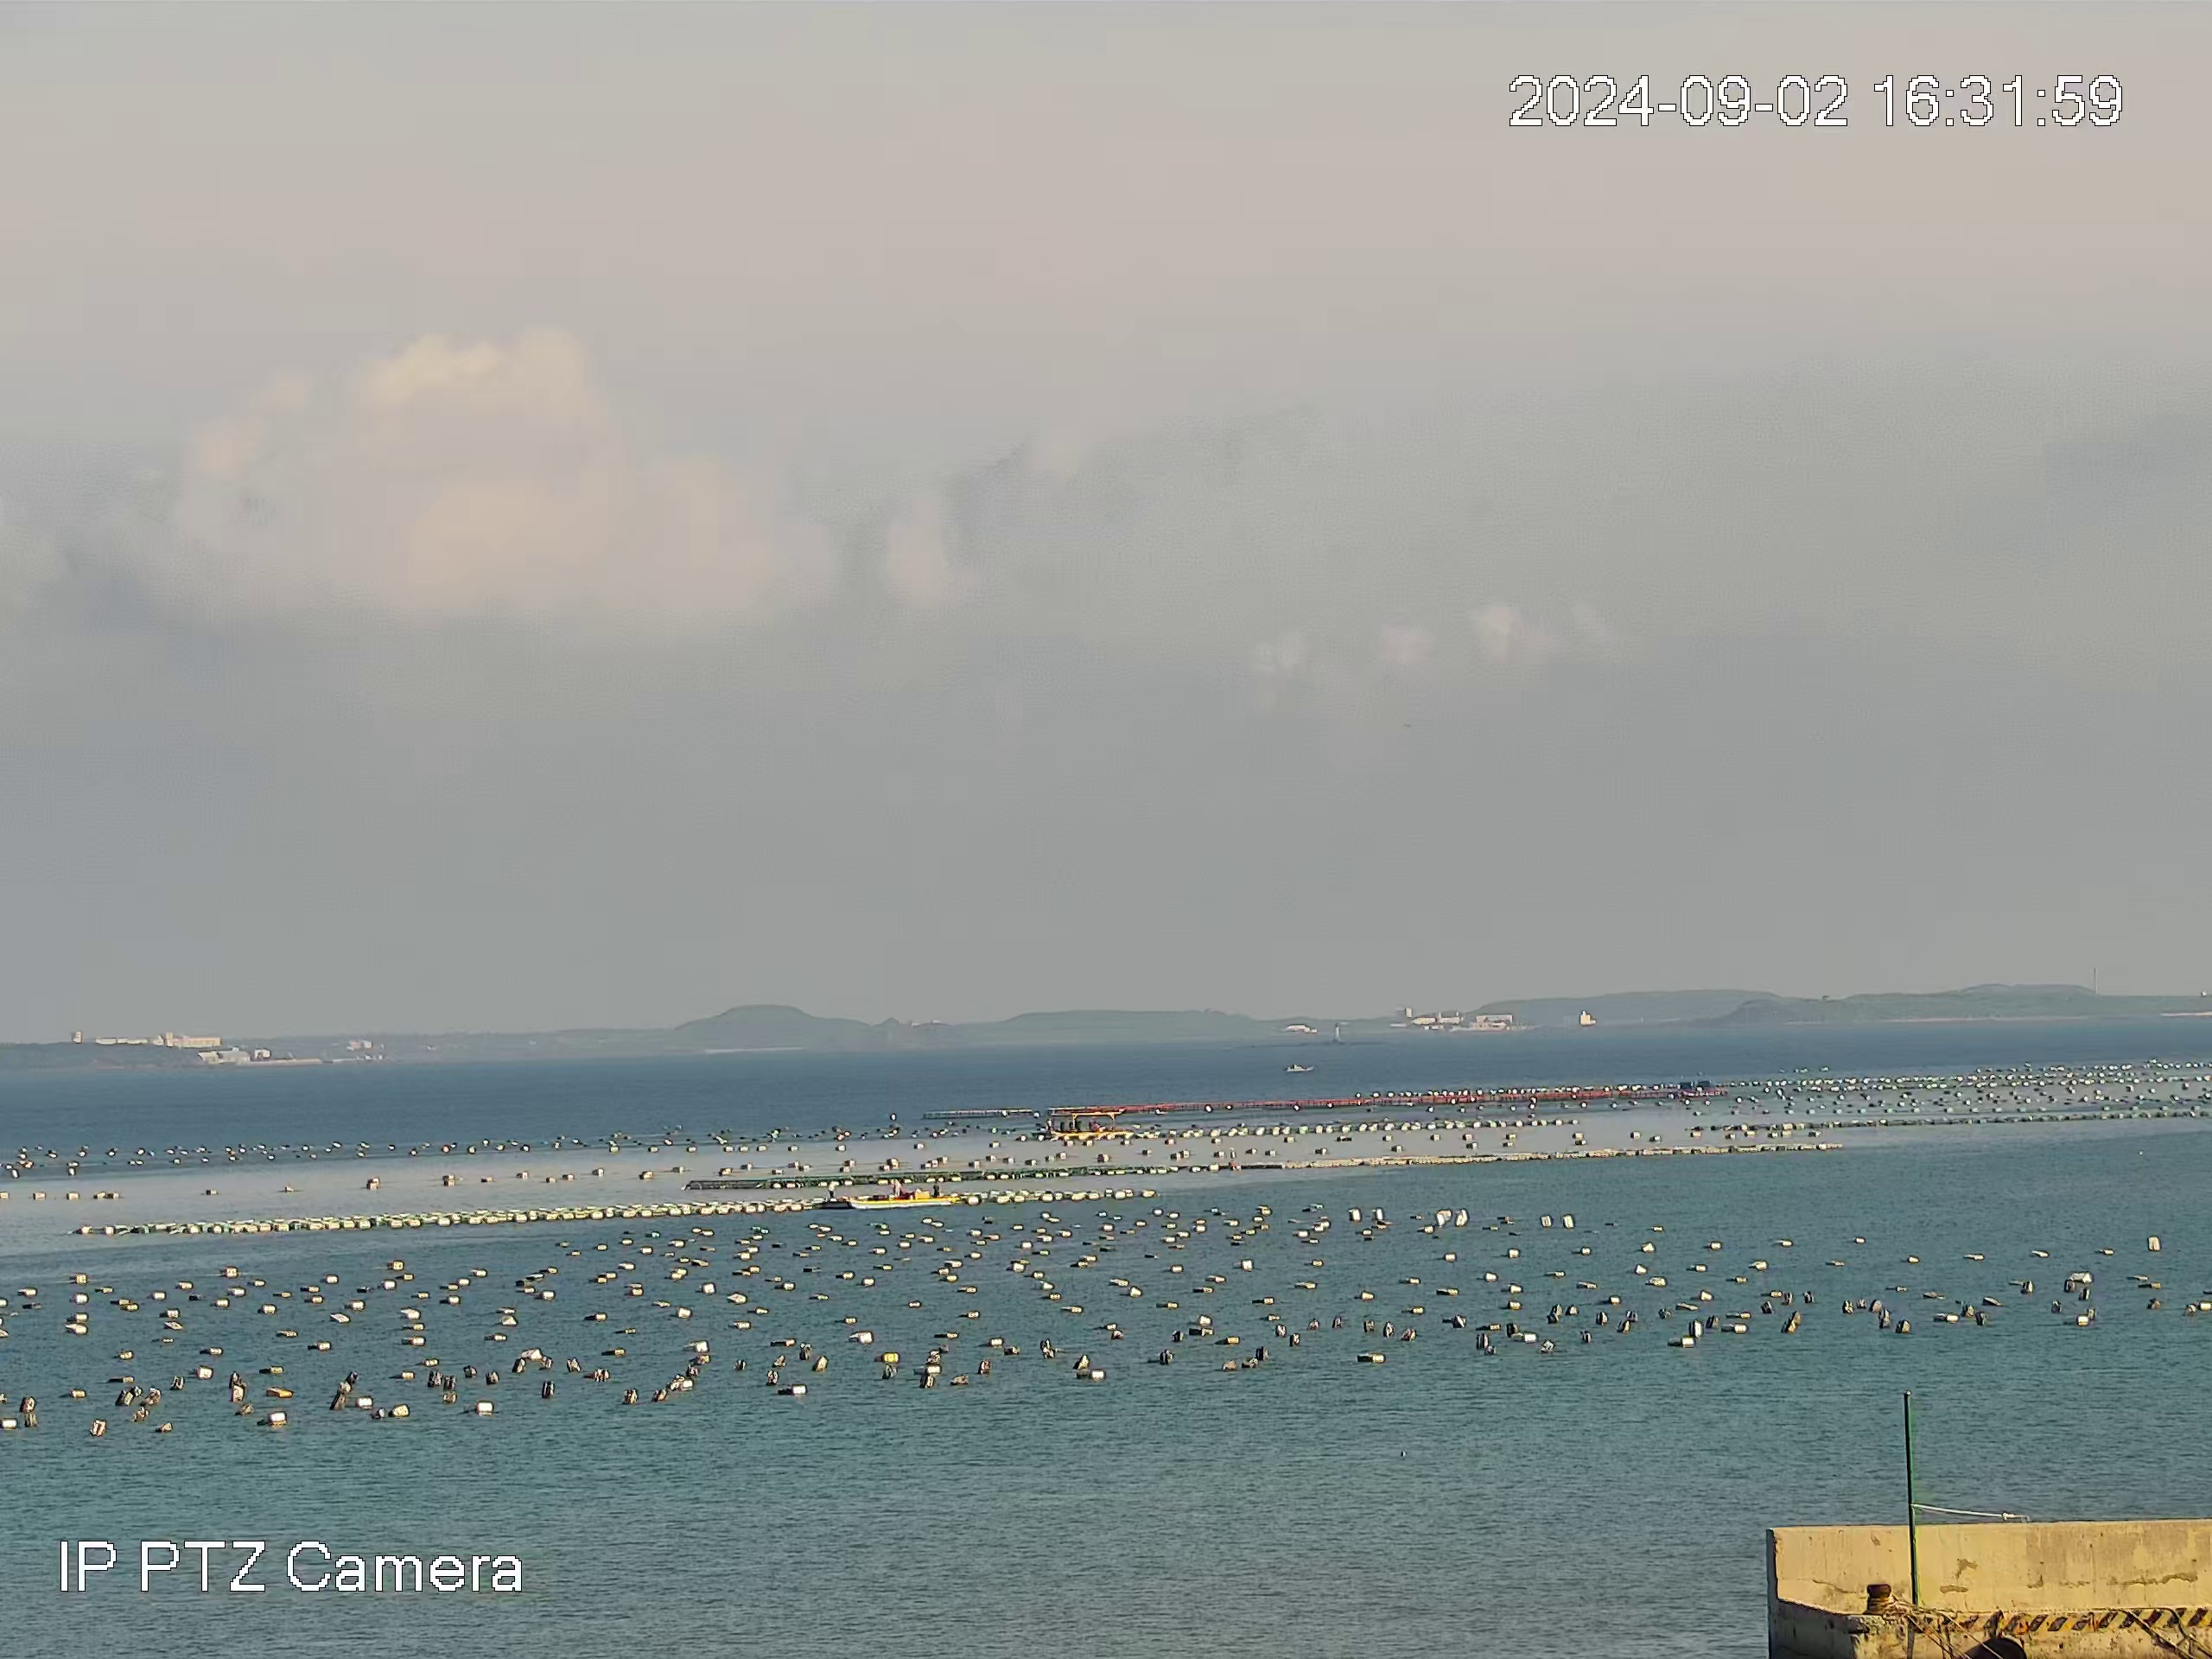boat: (845, 1178, 955, 1210), (1065, 1109, 1130, 1138), (1284, 1062, 1315, 1074)
